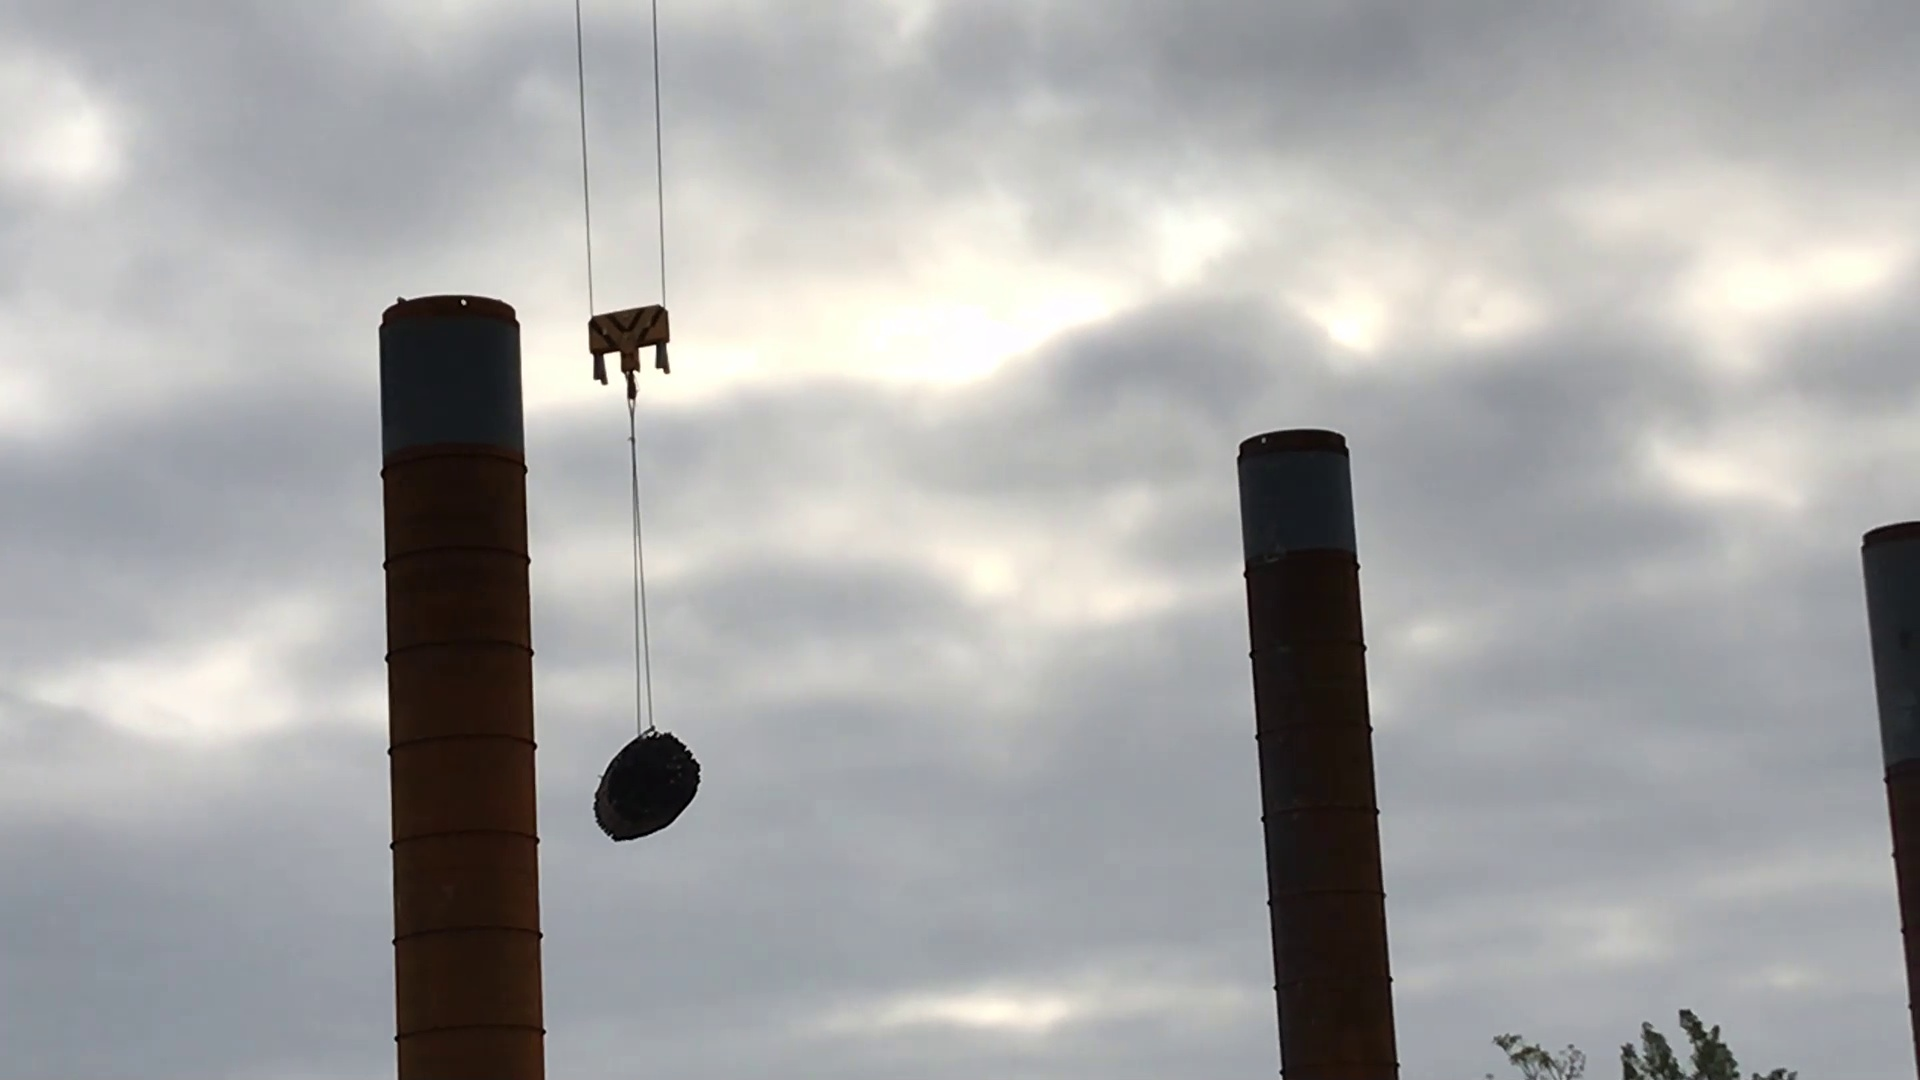hook: (578, 297, 691, 406)
